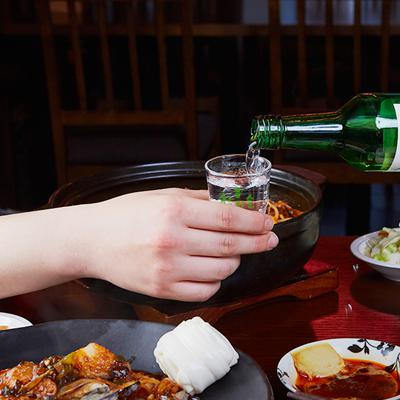soju: (246, 87, 400, 176)
